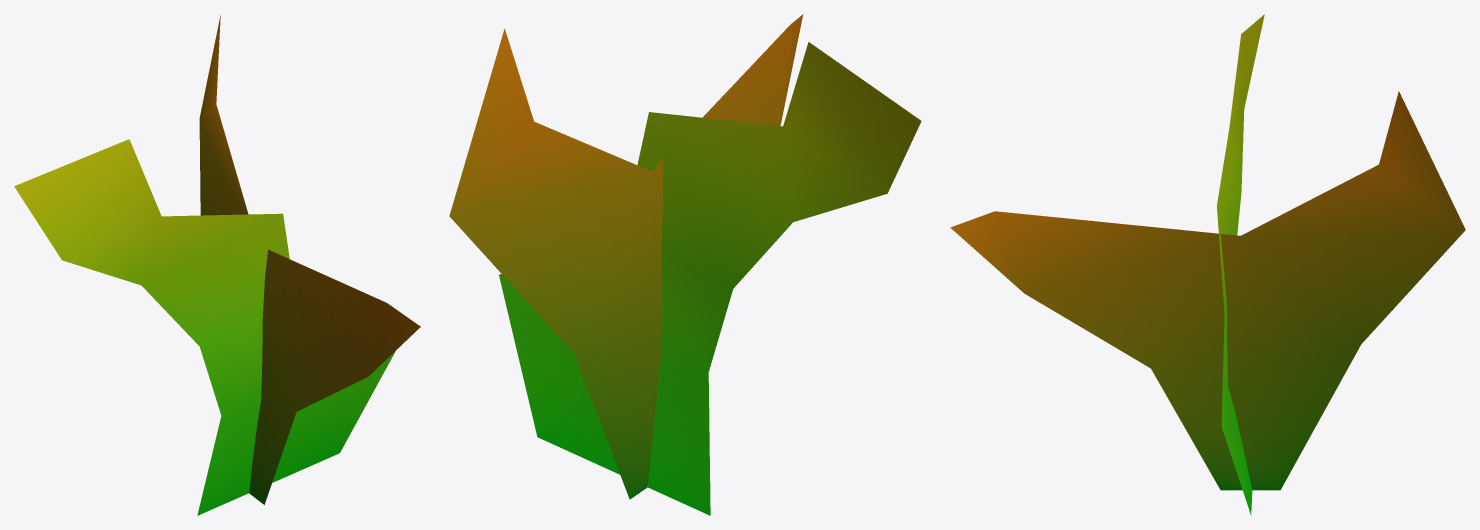
The model's file is Var11Hi17.fbx.
3 renders of one model, left to right at view 1: azimuth 30°, elevation 25°; view 2: azimuth 150°, elevation 25°; view 3: azimuth 270°, elevation 25°, orthographic. The views are drawn at different scales.
Visible parts, largest first — view 1: bend1; view 2: bend1; view 3: bend1.
Part boxes in pixels (<box>): bend1: <box>14,15,420,515</box>; bend1: <box>449,14,921,515</box>; bend1: <box>950,14,1465,515</box>.
Size of the model in its own units: 1.35 by 1.5 by 1.63.
